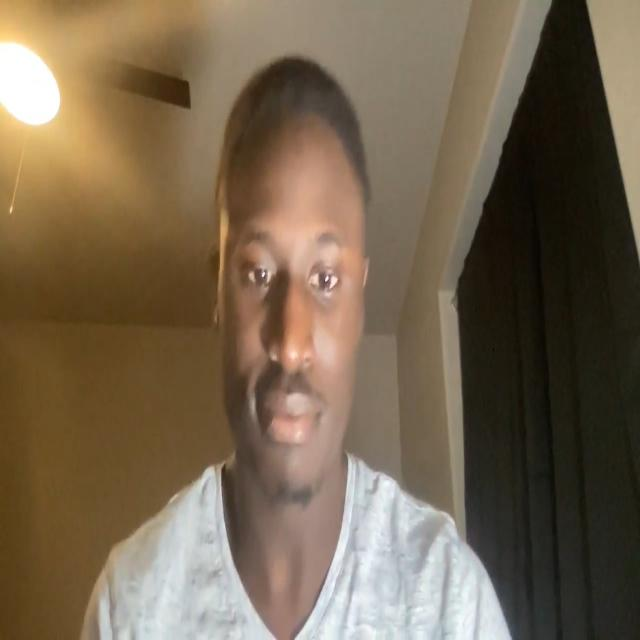face: (217, 73, 367, 507)
